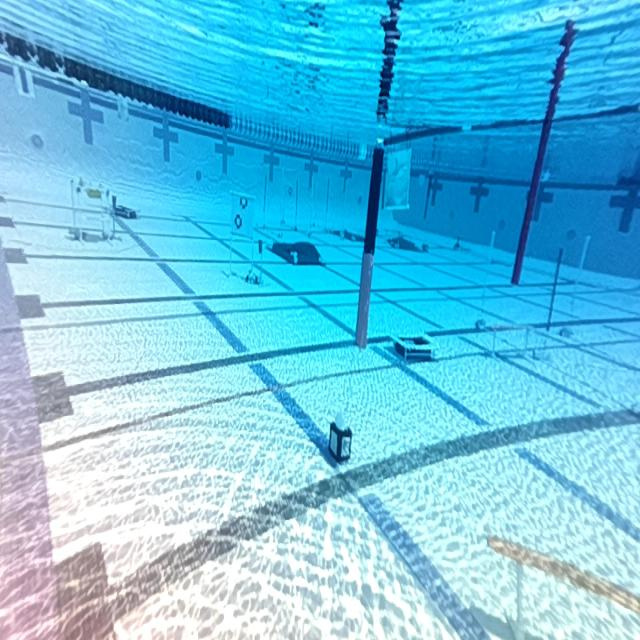round_nose: (384, 151, 409, 213)
